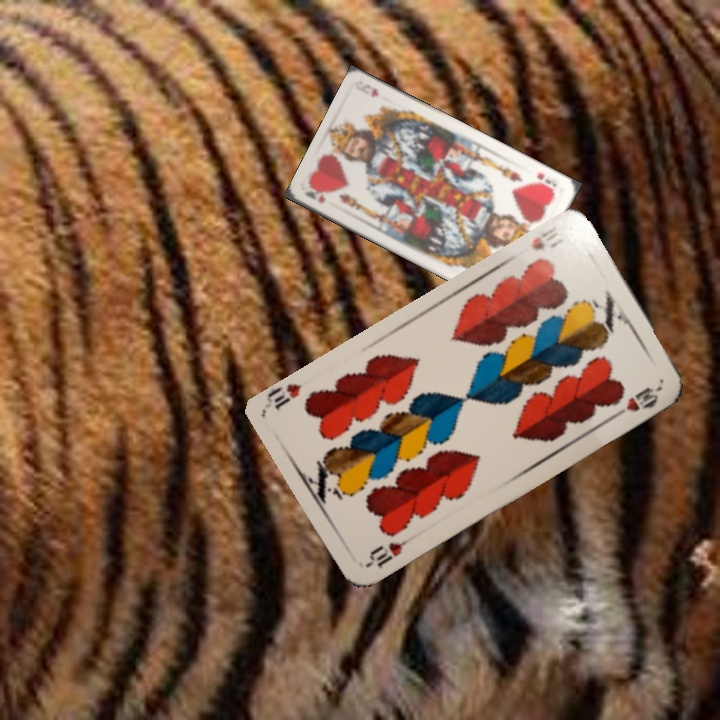H10: (362, 532, 415, 570), (527, 222, 566, 253)
HK: (529, 168, 559, 194), (301, 183, 328, 206)
